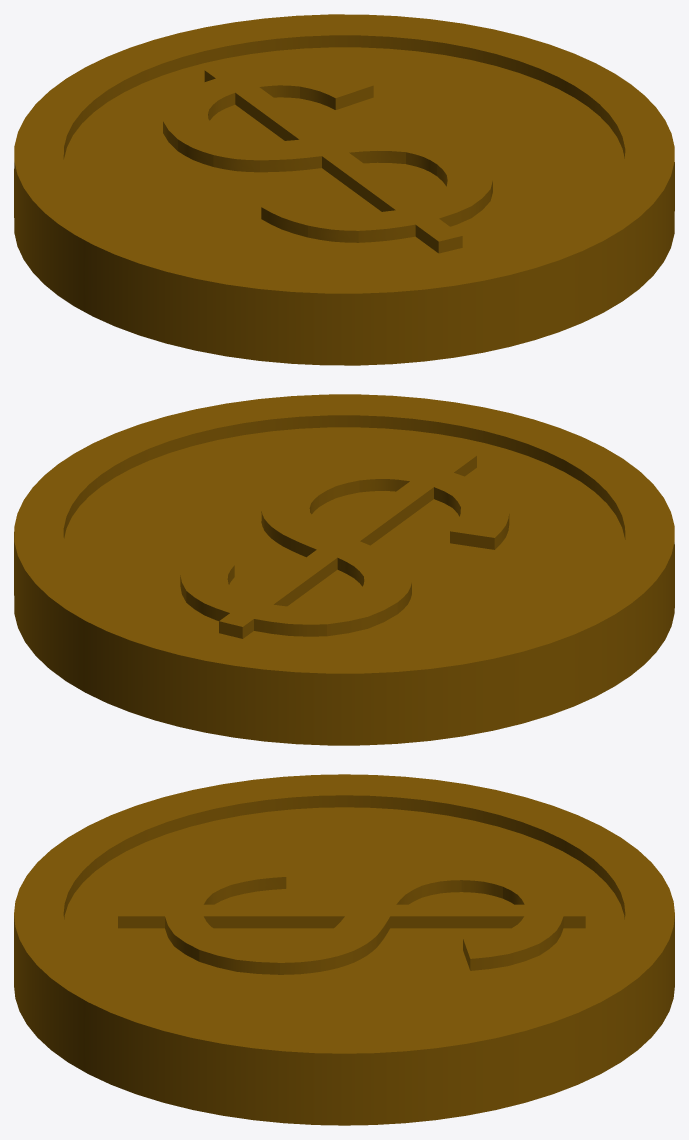
File: CoinSource.fbx
The picture shows the model from 3 angles, top to bottom: view 1: azimuth 30°, elevation 25°; view 2: azimuth 150°, elevation 25°; view 3: azimuth 270°, elevation 25°; orthographic projection.
Visible parts, largest first — view 1: Body1; view 2: Body1; view 3: Body1.
Part boxes in pixels (x1,y1,x2,y2): Body1: (14, 14, 674, 365); Body1: (14, 394, 674, 745); Body1: (14, 774, 674, 1125).
Size of the model in its own units: 100 by 12 by 100.
